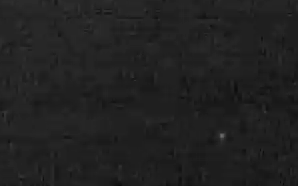Target: (220, 133, 224, 137)
